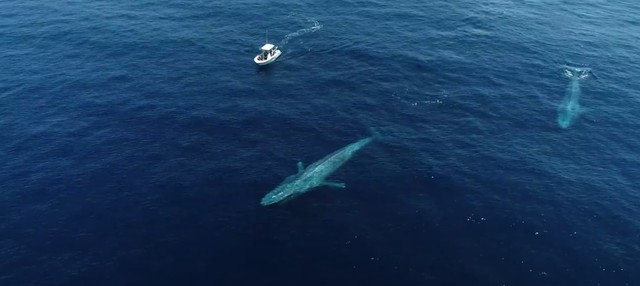whale: (255, 116, 394, 214), (551, 64, 598, 134)
